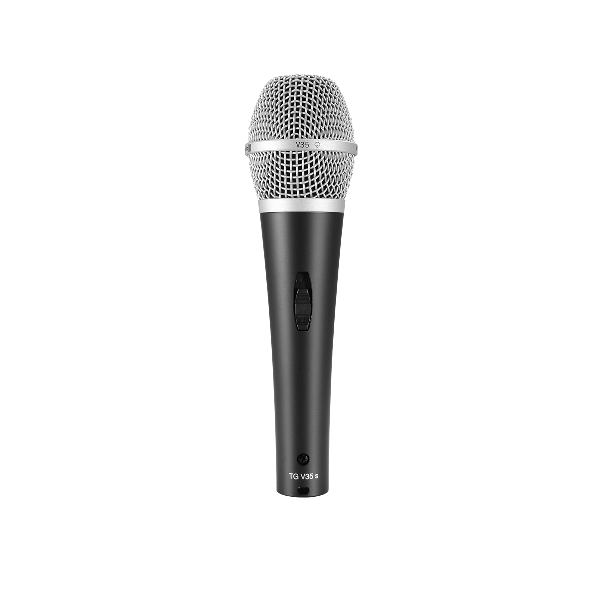microphone: (242, 70, 362, 502)
